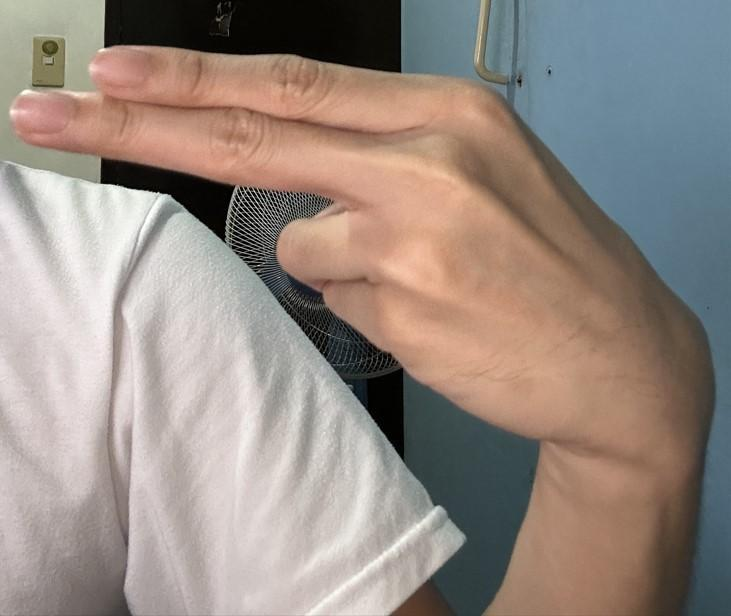h: (5, 42, 721, 469)
